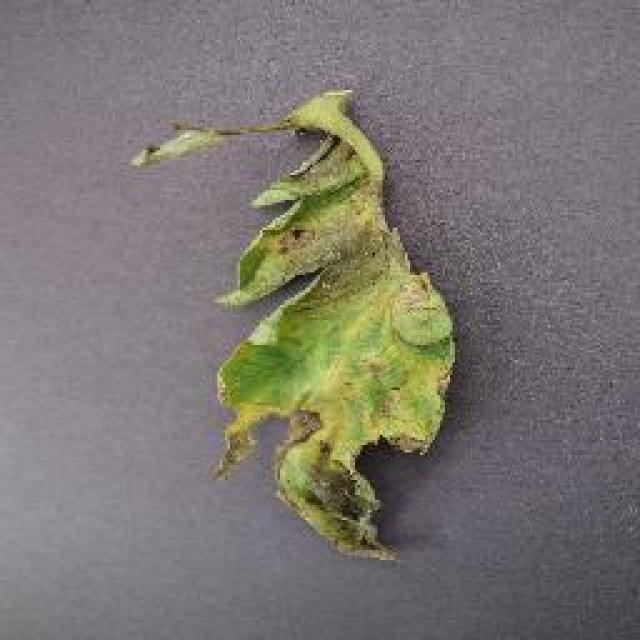Tomato late blight leaf: (142, 86, 452, 569)
